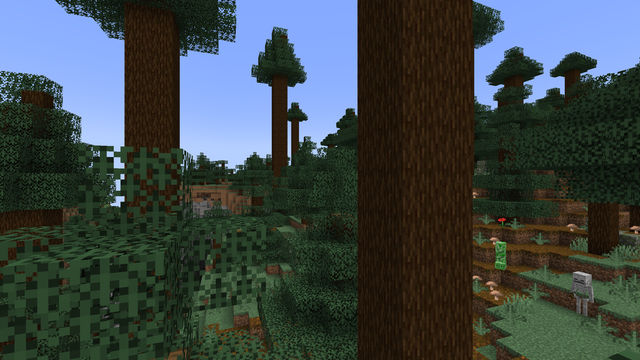creepers: (492, 239, 507, 269)
squelettes: (570, 271, 592, 318)
